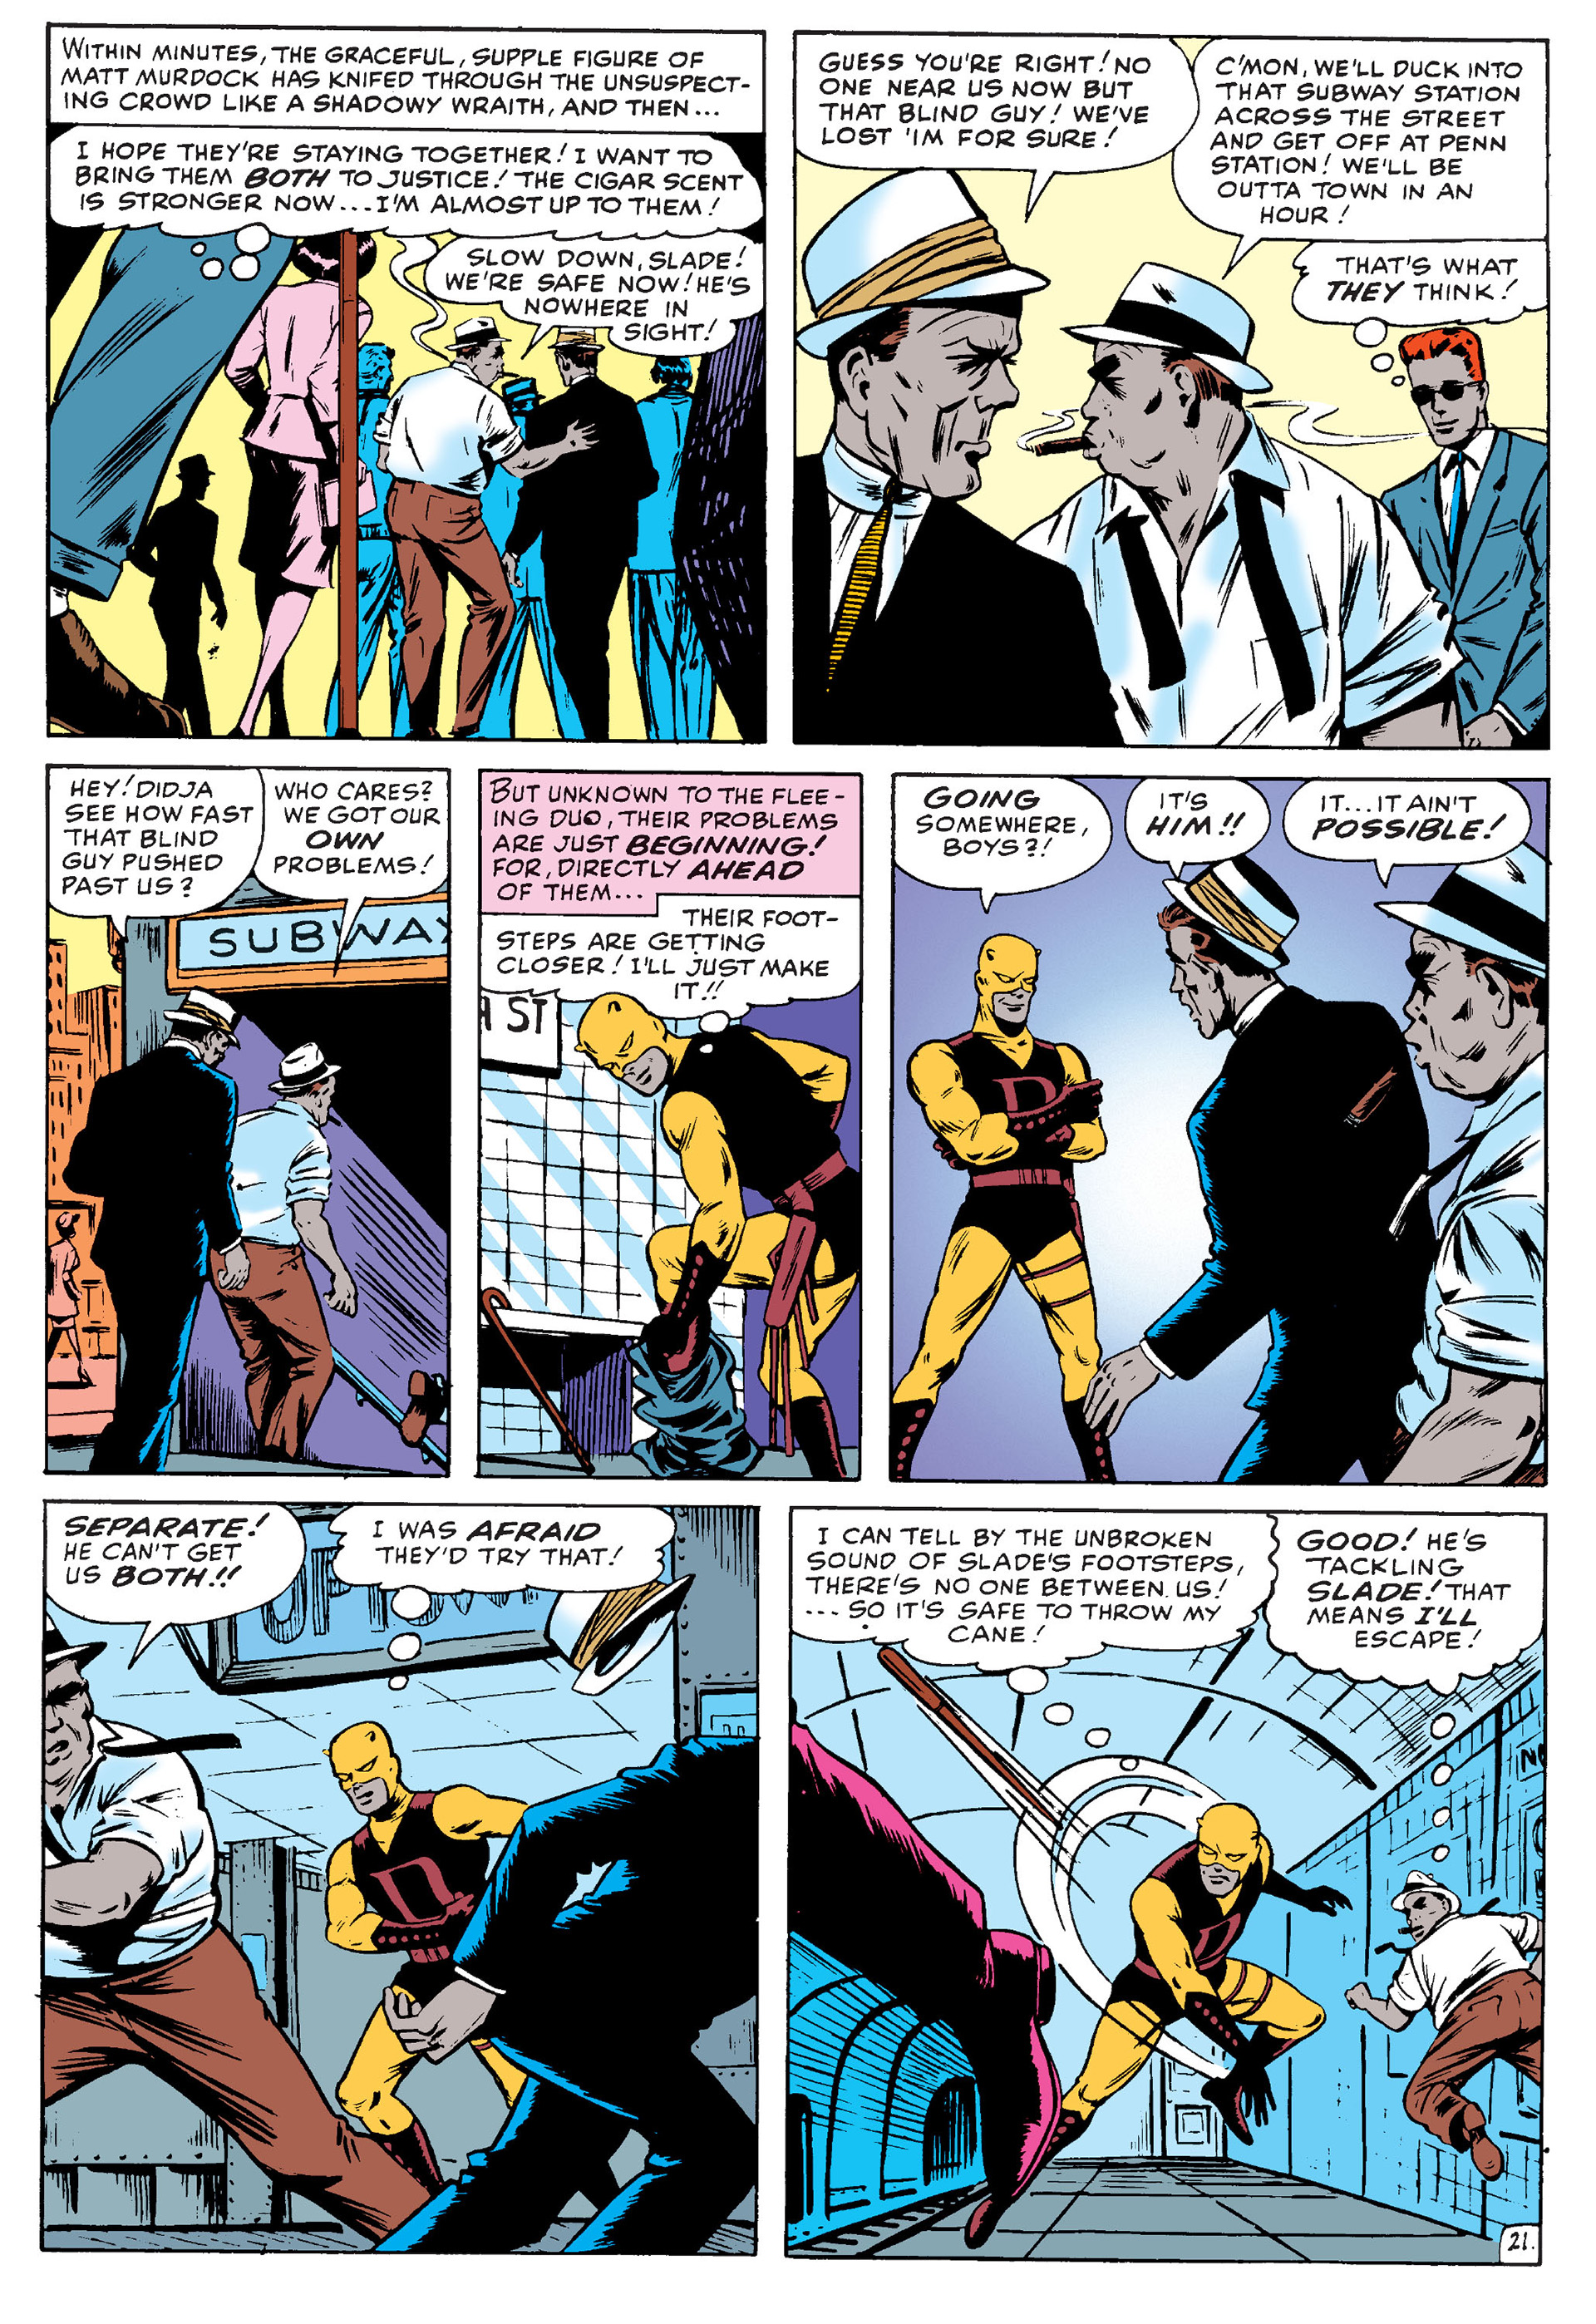Baloon: (796, 1505, 1280, 1688), (1174, 30, 1543, 251), (44, 16, 770, 127), (787, 23, 1208, 212), (44, 127, 759, 237), (487, 766, 860, 911), (1276, 1512, 1540, 1701), (466, 901, 865, 1014), (427, 237, 766, 362), (328, 1498, 683, 1609), (51, 756, 265, 938), (41, 1505, 297, 1649), (256, 775, 455, 952), (897, 782, 1114, 904), (1280, 779, 1525, 887), (1287, 237, 1552, 330), (1128, 775, 1273, 862)
Vignetta: (796, 1508, 1540, 2267), (793, 30, 1554, 742), (41, 1508, 759, 2257), (48, 23, 766, 738), (893, 772, 1547, 1487), (48, 766, 441, 1480), (484, 766, 860, 1480)
